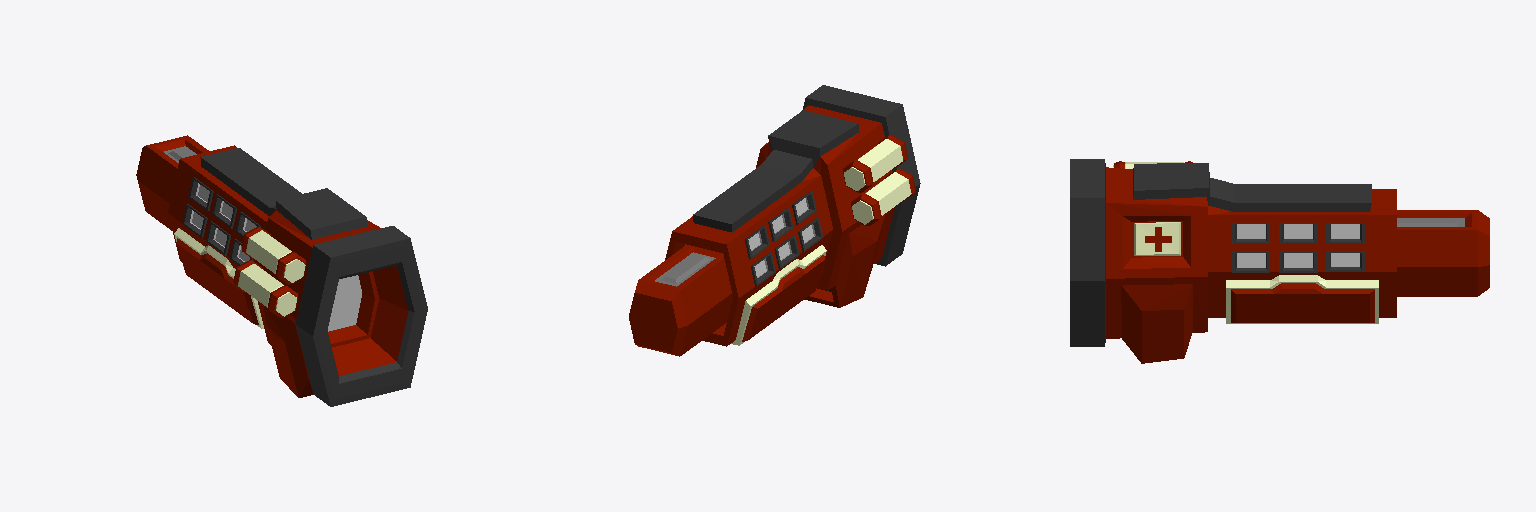
3 views of the same model, side by side, from view 1: azimuth 30°, elevation 25°; view 2: azimuth 150°, elevation 25°; view 3: azimuth 270°, elevation 25° (orthographic).
Parts seen in each view (by area): view 1: Cube_Cube.001; view 2: Cube_Cube.001; view 3: Cube_Cube.001.
Part boxes in pixels (x1,y1,x2,y2): Cube_Cube.001: (136, 135, 427, 406); Cube_Cube.001: (629, 85, 920, 356); Cube_Cube.001: (1070, 159, 1489, 363).
Size of the model in its own units: 8.97 by 10.87 by 24.17.
Materials: 2 (1 with a texture image).